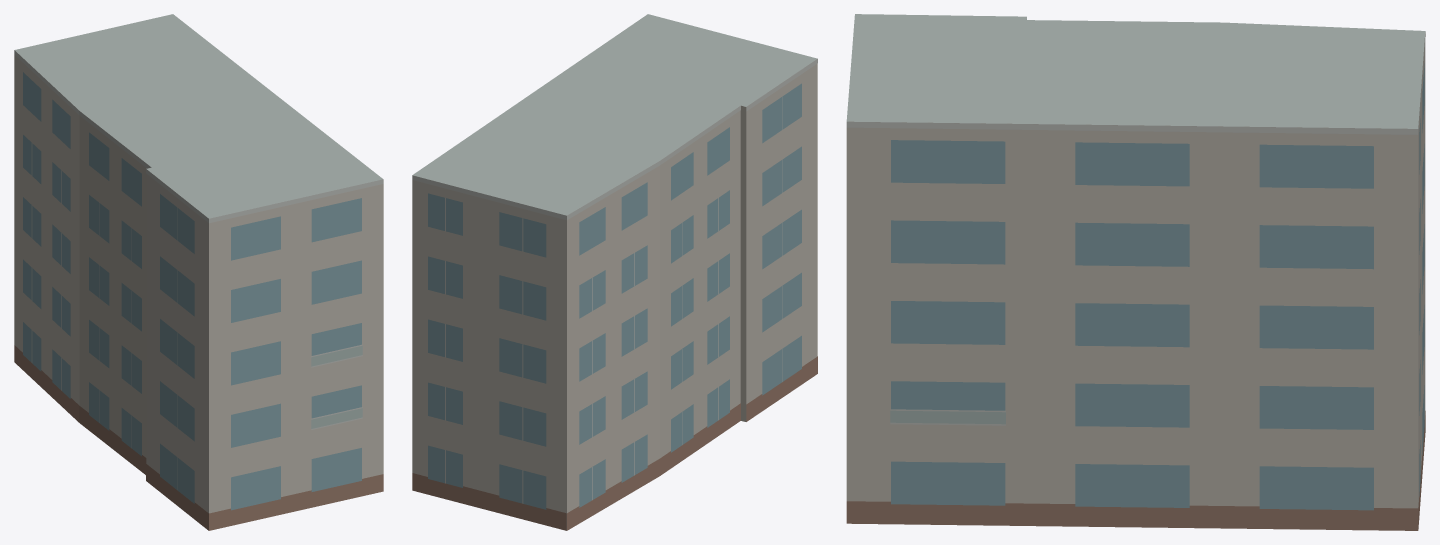
File: survey-upis-32664488.glb
3 renders of one model, left to right at view 1: azimuth 30°, elevation 25°; view 2: azimuth 150°, elevation 25°; view 3: azimuth 270°, elevation 25°, orthographic. The views are drawn at different scales.
Visible parts, largest first — view 1: survey-upis-32664488.tmp; view 2: survey-upis-32664488.tmp; view 3: survey-upis-32664488.tmp.
Part boxes in pixels (x1,y1,x2,y2): survey-upis-32664488.tmp: [14, 14, 383, 530]; survey-upis-32664488.tmp: [412, 14, 817, 530]; survey-upis-32664488.tmp: [846, 14, 1425, 530].
Bounding box in the file's own units: 10.19 × 16.6 × 21.67.
